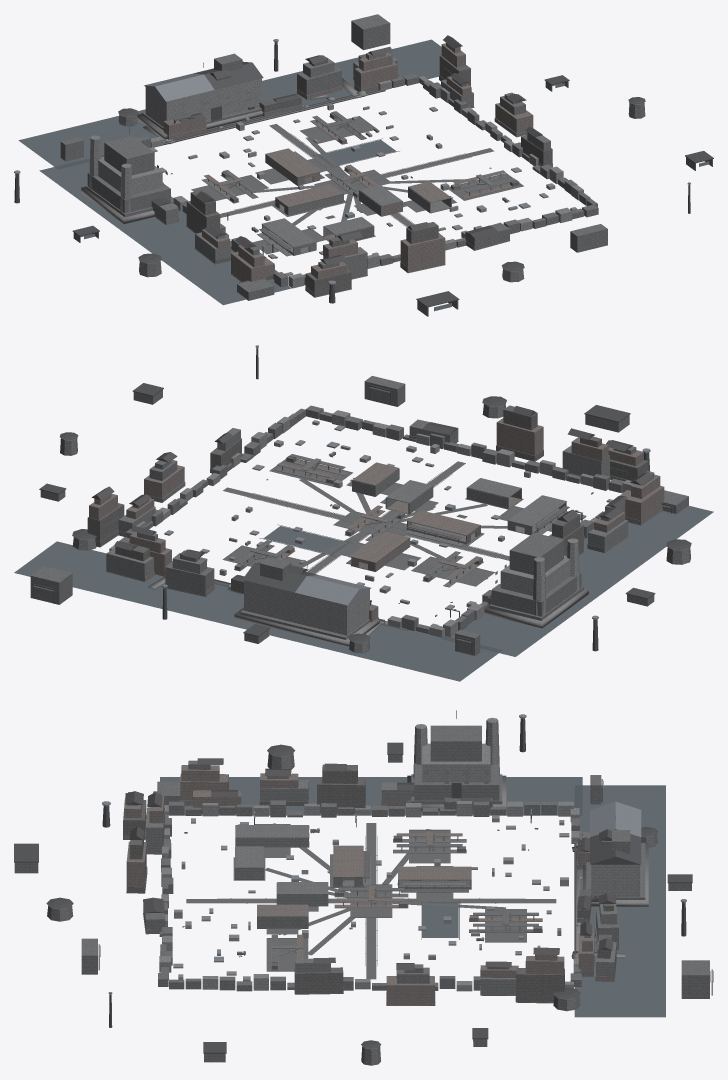
3 views of the same model, one above another, from view 1: azimuth 30°, elevation 25°; view 2: azimuth 150°, elevation 25°; view 3: azimuth 270°, elevation 25° (orthographic). The views are drawn at different scales.
Parts seen in each view (by area): view 1: HB_z03_LOD1_wall_alt, HB_z03_LOD1_water, HB_z03_LOD1_wall_warm, HB_z03_LOD1_wall_cool, HB_z03_LOD1_road, HB_z03_LOD1_wall_weathered, HB_z03_LOD1_LANDMARK_1_wall_alt, HB_z03_LOD1_trim, HB_z03_LOD1_LANDMARK_0_wall, HB_z03_LOD1_roof, HB_z03_LOD1_wall, HB_z03_LOD1_LANDMARK_1_wall (+7 smaller); view 2: HB_z03_LOD1_water, HB_z03_LOD1_wall_alt, HB_z03_LOD1_wall_warm, HB_z03_LOD1_wall_cool, HB_z03_LOD1_road, HB_z03_LOD1_wall_weathered, HB_z03_LOD1_LANDMARK_0_wall, HB_z03_LOD1_trim, HB_z03_LOD1_LANDMARK_1_wall_alt, HB_z03_LOD1_wall, HB_z03_LOD1_roof, HB_z03_LOD1_LANDMARK_1_wall (+7 smaller); view 3: HB_z03_LOD1_wall_alt, HB_z03_LOD1_water, HB_z03_LOD1_wall_warm, HB_z03_LOD1_wall_cool, HB_z03_LOD1_road, HB_z03_LOD1_wall_weathered, HB_z03_LOD1_trim, HB_z03_LOD1_LANDMARK_1_wall_alt, HB_z03_LOD1_wall, HB_z03_LOD1_roof, HB_z03_LOD1_LANDMARK_1_wall, HB_z03_LOD1_obstacle (+6 smaller).
Boxes of the visible parts, x1,y1,x2,y2 form: HB_z03_LOD1_wall_alt: [60, 14, 712, 316]; HB_z03_LOD1_water: [18, 39, 470, 305]; HB_z03_LOD1_wall_warm: [163, 43, 533, 281]; HB_z03_LOD1_wall_cool: [151, 52, 550, 296]; HB_z03_LOD1_road: [191, 116, 523, 253]; HB_z03_LOD1_wall_weathered: [186, 53, 552, 296]; HB_z03_LOD1_LANDMARK_1_wall_alt: [85, 136, 173, 217]; HB_z03_LOD1_trim: [14, 42, 713, 307]; HB_z03_LOD1_LANDMARK_0_wall: [145, 78, 261, 126]; HB_z03_LOD1_roof: [152, 35, 542, 265]; HB_z03_LOD1_wall: [151, 76, 583, 288]; HB_z03_LOD1_LANDMARK_1_wall: [89, 135, 162, 212]; HB_z03_LOD1_water: [14, 505, 713, 681]; HB_z03_LOD1_wall_alt: [30, 376, 690, 655]; HB_z03_LOD1_wall_warm: [89, 418, 664, 622]; HB_z03_LOD1_wall_cool: [106, 428, 640, 605]; HB_z03_LOD1_road: [223, 459, 551, 586]; HB_z03_LOD1_wall_weathered: [87, 405, 648, 604]; HB_z03_LOD1_LANDMARK_0_wall: [244, 580, 369, 635]; HB_z03_LOD1_trim: [33, 347, 691, 655]; HB_z03_LOD1_LANDMARK_1_wall_alt: [489, 532, 583, 620]; HB_z03_LOD1_wall: [109, 410, 633, 637]; HB_z03_LOD1_roof: [91, 406, 653, 597]; HB_z03_LOD1_LANDMARK_1_wall: [500, 538, 579, 615]; HB_z03_LOD1_wall_alt: [14, 753, 709, 1065]; HB_z03_LOD1_water: [160, 777, 665, 1017]; HB_z03_LOD1_wall_warm: [124, 765, 618, 1005]; HB_z03_LOD1_wall_cool: [123, 776, 617, 1004]; HB_z03_LOD1_road: [186, 823, 556, 979]; HB_z03_LOD1_wall_weathered: [123, 764, 613, 1002]; HB_z03_LOD1_trim: [14, 718, 712, 1053]; HB_z03_LOD1_LANDMARK_1_wall_alt: [411, 725, 502, 804]; HB_z03_LOD1_wall: [159, 801, 579, 991]; HB_z03_LOD1_roof: [125, 758, 616, 969]; HB_z03_LOD1_LANDMARK_1_wall: [413, 717, 499, 782]; HB_z03_LOD1_obstacle: [173, 815, 710, 982].
Bounding box in the file's own units: 590 × 76.49 × 551.
13 materials, 11 textured.
